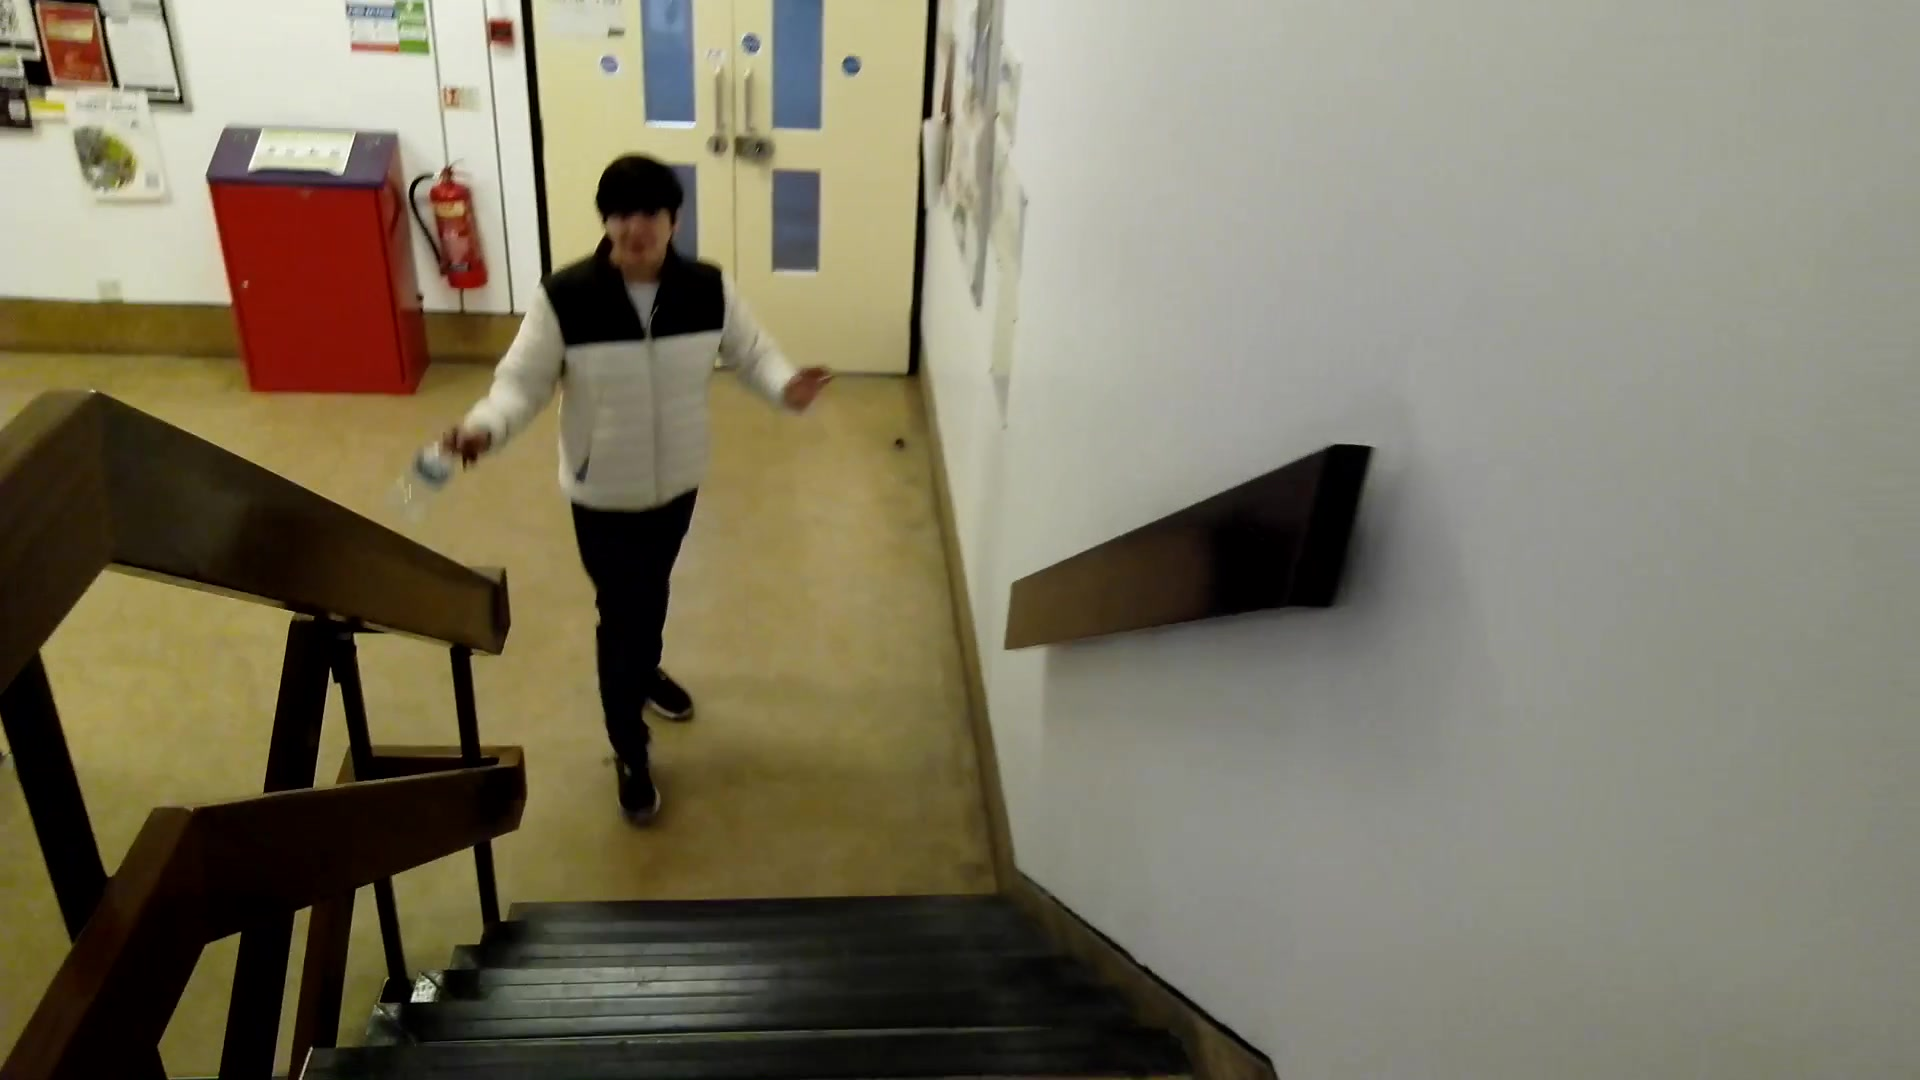Bin: (210, 121, 456, 418)
Person: (546, 155, 748, 813)
